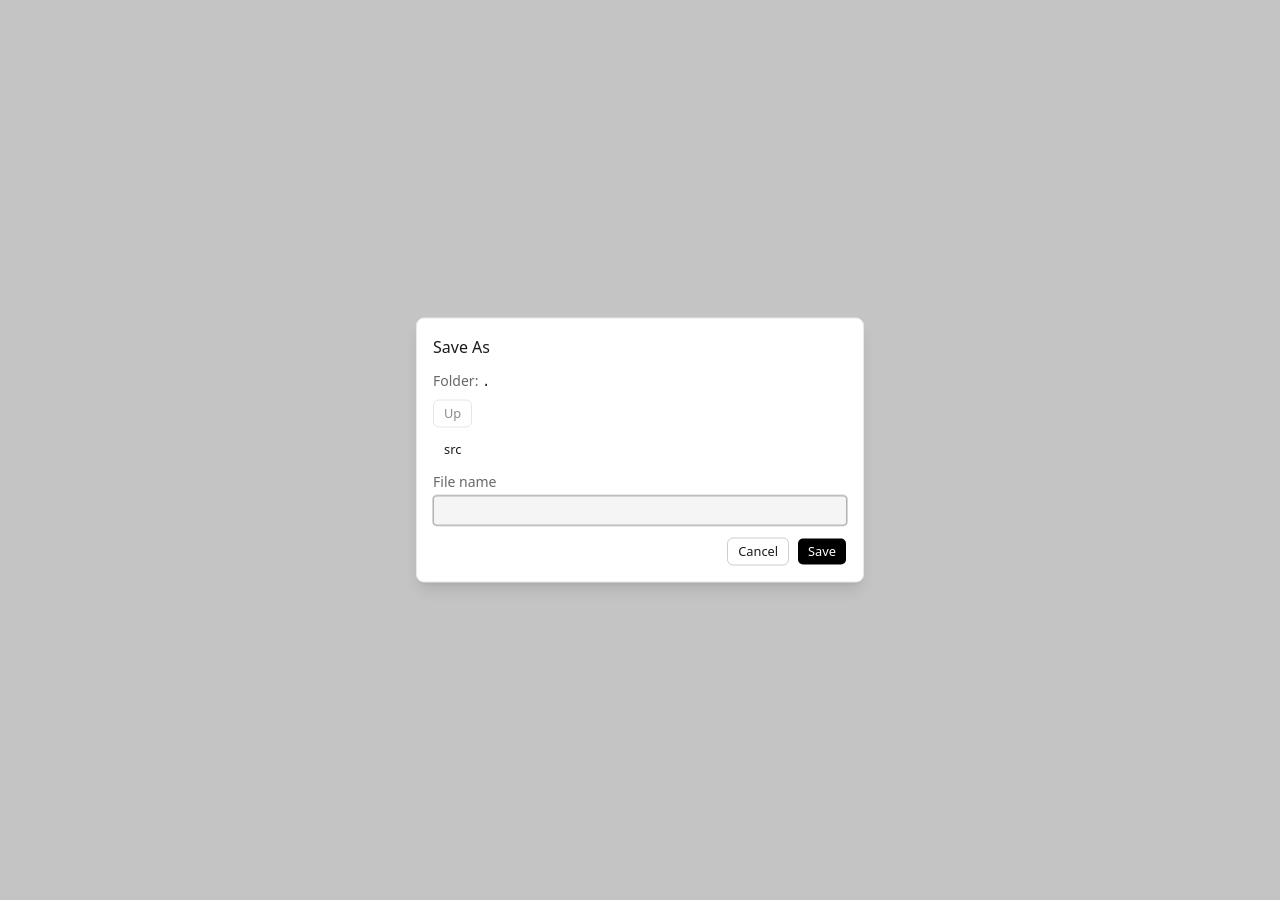
EditorSaveAsDialog › shows validation when filename is empty
This screenshot has width=1280, height=900.
Click the button "Save". click: (822, 552)
box: [797,538,847,566]
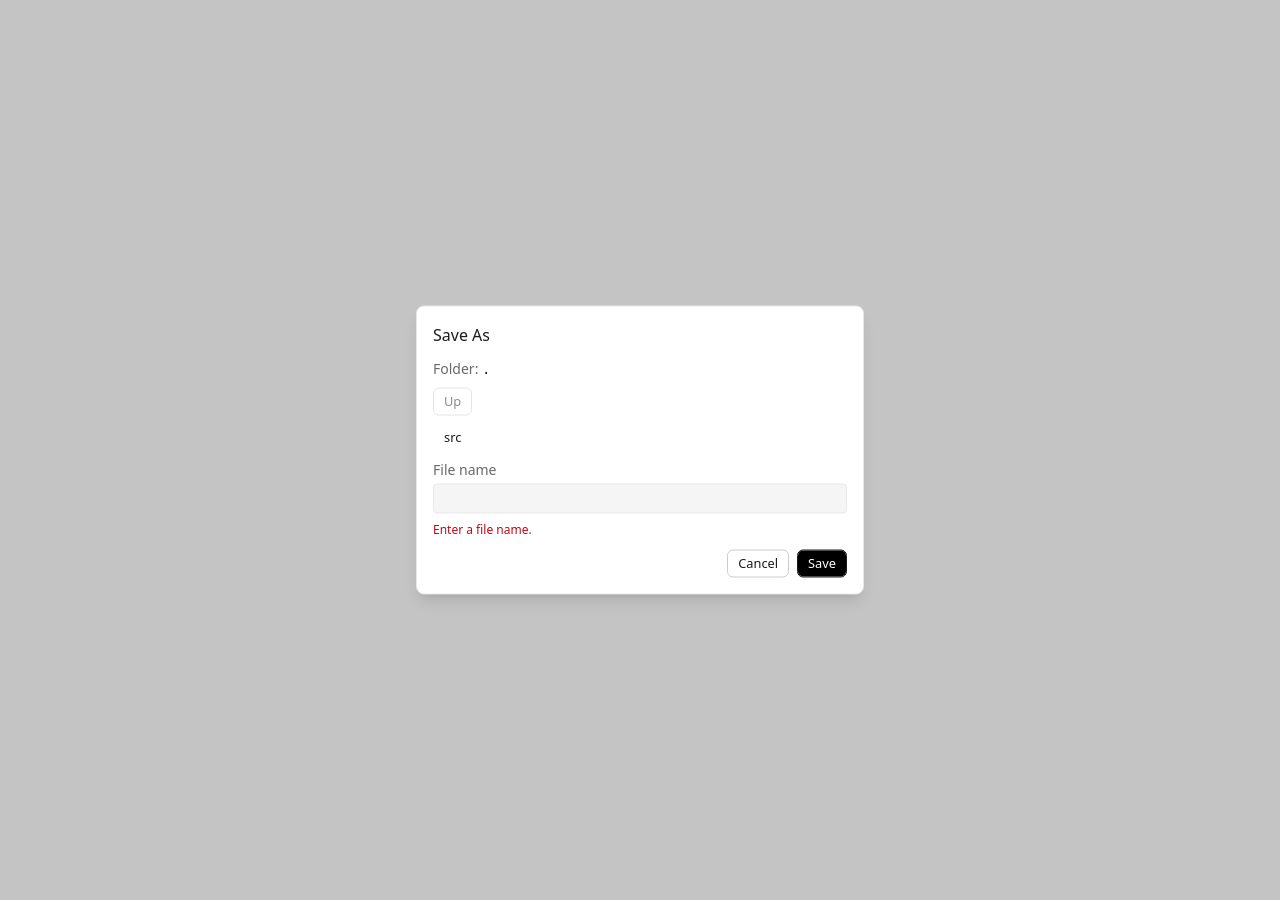
expect the text "Enter a file name." is shown: met, box [433,520,532,538]
